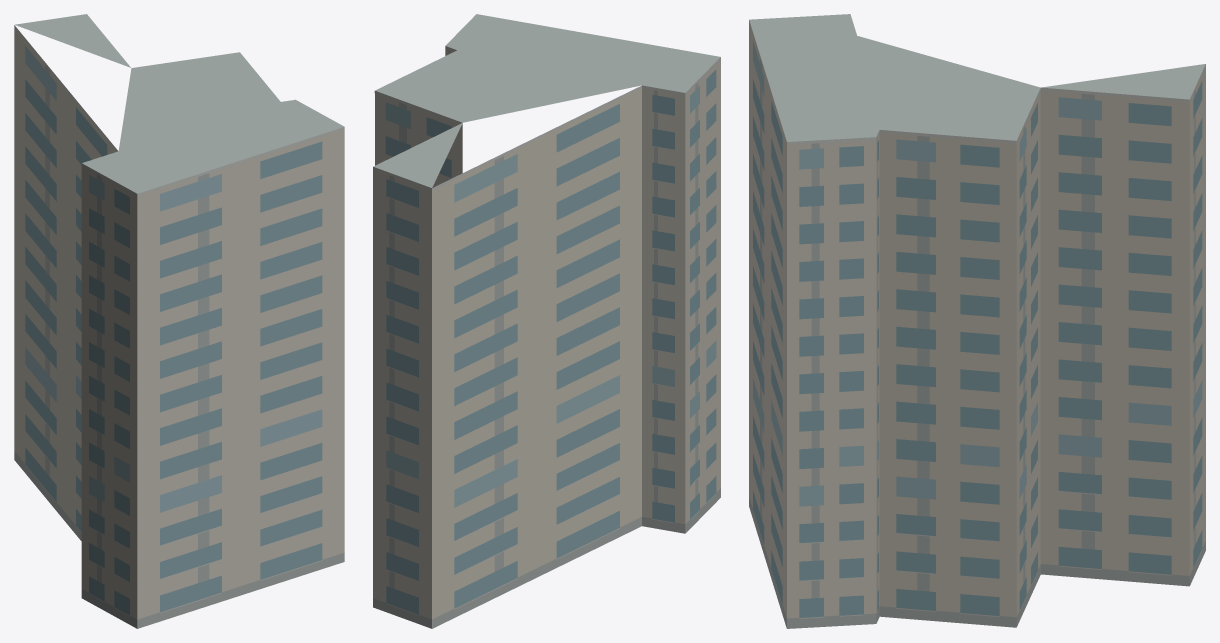
Rendered from residential-4e07ecdf-16a5-4c75-9d0e-d61115dcd7b0.glb.
3 views of the same model, side by side, from view 1: azimuth 30°, elevation 25°; view 2: azimuth 150°, elevation 25°; view 3: azimuth 270°, elevation 25° (orthographic). The views are drawn at different scales.
Parts seen in each view (by area): view 1: residential-4e07ecdf-16a5-4c75-9d0e-d61115dcd7b0.tmp; view 2: residential-4e07ecdf-16a5-4c75-9d0e-d61115dcd7b0.tmp; view 3: residential-4e07ecdf-16a5-4c75-9d0e-d61115dcd7b0.tmp.
Boxes of the visible parts, box(x1,y1,x2,y2) form: residential-4e07ecdf-16a5-4c75-9d0e-d61115dcd7b0.tmp: box(14, 14, 344, 628); residential-4e07ecdf-16a5-4c75-9d0e-d61115dcd7b0.tmp: box(373, 14, 720, 628); residential-4e07ecdf-16a5-4c75-9d0e-d61115dcd7b0.tmp: box(749, 14, 1205, 628).
Bounding box in the file's own units: 22.58 × 40 × 34.02.
